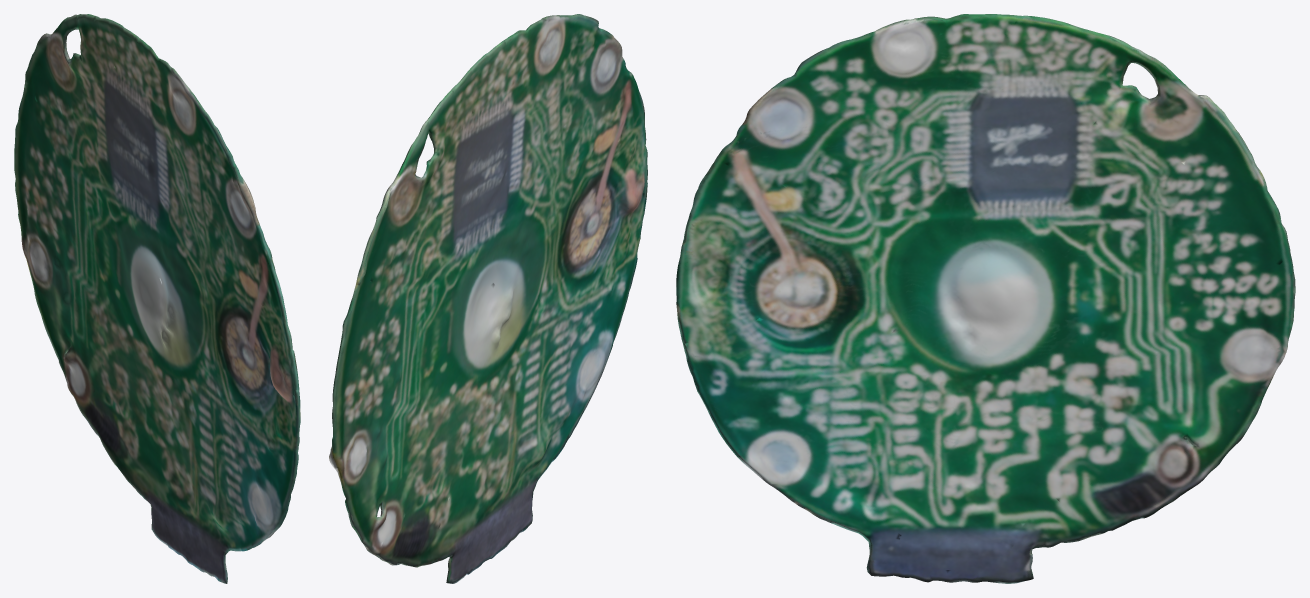
File: pcb.glb
The picture shows the model from 3 angles, left to right: view 1: azimuth 30°, elevation 25°; view 2: azimuth 150°, elevation 25°; view 3: azimuth 270°, elevation 25°; orthographic projection. The views are drawn at different scales.
Bounding box in the file's own units: 0.1521 × 1.97 × 2.
Materials: 1 (1 with a texture image).
